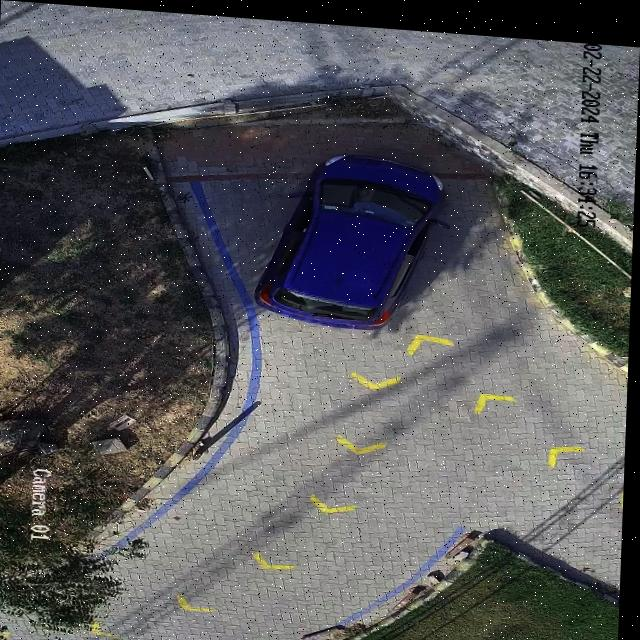car: (254, 149, 450, 325)
